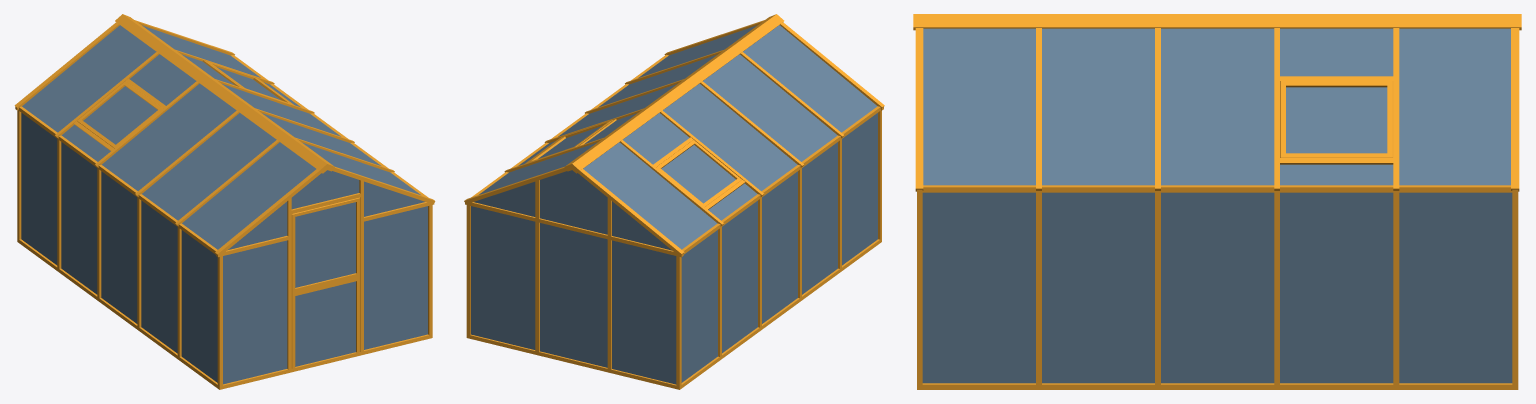
Rendered from SM_Greenhouse_Modern_A.fbx.
3 views of the same model, side by side, from view 1: azimuth 30°, elevation 25°; view 2: azimuth 150°, elevation 25°; view 3: azimuth 270°, elevation 25° (orthographic). The views are drawn at different scales.
Parts seen in each view (by area): view 1: greenhouse-modern-a-base, greenhouse-modern-a-door, greenhouse-modern-a-window-l, greenhouse-modern-a-window-r; view 2: greenhouse-modern-a-base, greenhouse-modern-a-window-l, greenhouse-modern-a-window-r; view 3: greenhouse-modern-a-base, greenhouse-modern-a-window-r.
Boxes of the visible parts, <box> form: greenhouse-modern-a-base: <box>14,14,435,389</box>; greenhouse-modern-a-door: <box>291,197,360,368</box>; greenhouse-modern-a-window-l: <box>77,81,162,148</box>; greenhouse-modern-a-window-r: <box>206,61,290,103</box>; greenhouse-modern-a-base: <box>464,14,884,389</box>; greenhouse-modern-a-window-l: <box>656,140,741,206</box>; greenhouse-modern-a-window-r: <box>528,120,612,162</box>; greenhouse-modern-a-base: <box>913,14,1521,389</box>; greenhouse-modern-a-window-r: <box>1280,81,1393,157</box>.
Bounding box in the file's own units: 3.17 × 2.79 × 5.16.
